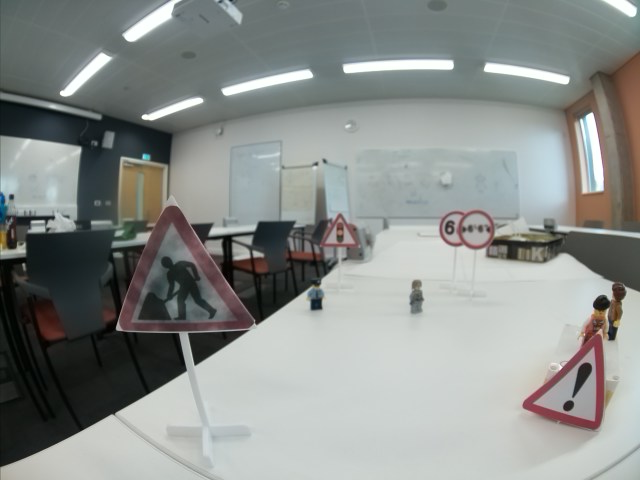60mph: (439, 211, 462, 246)
6ft6: (459, 210, 495, 248)
Lego Man: (580, 294, 609, 342), (609, 280, 626, 342), (306, 277, 328, 312), (407, 280, 428, 315)
Roadworks: (116, 206, 256, 333)
Traffic lights: (318, 213, 360, 248)
Warning: (523, 334, 616, 431)
